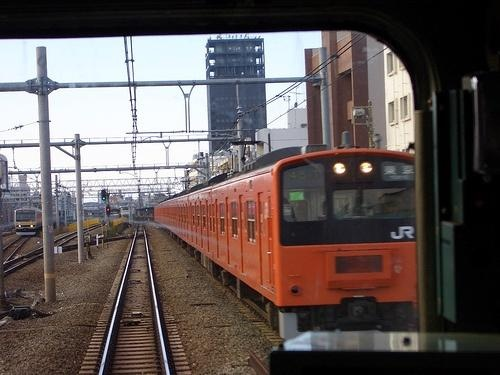train: (154, 149, 420, 342), (15, 209, 40, 238)
